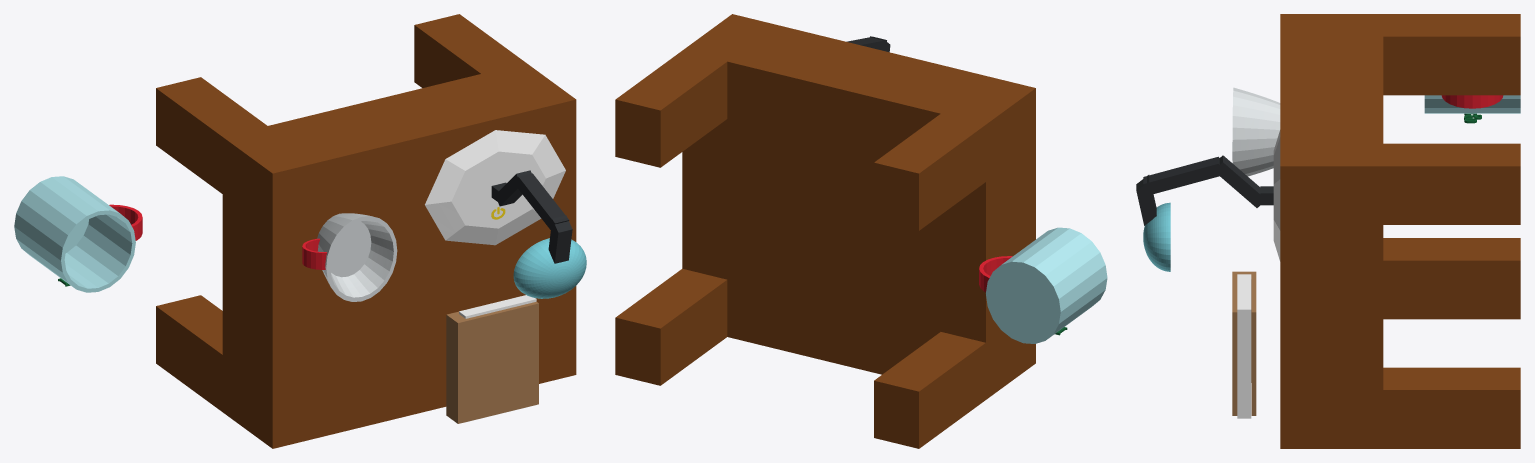
The model's file is tinker.obj.
3 views of the same model, side by side, from view 1: azimuth 30°, elevation 25°; view 2: azimuth 150°, elevation 25°; view 3: azimuth 270°, elevation 25° (orthographic). The views are drawn at different scales.
Parts seen in each view (by area): view 1: group_0_8602901, group_0_16448250, group_0_11593967, group_0_11107152, group_0_14541540, group_0_7720667, group_0_2829873, group_0_15277357; view 2: group_0_8602901, group_0_11593967, group_0_15277357; view 3: group_0_8602901, group_0_14541540, group_0_2829873, group_0_16448250, group_0_11107152, group_0_7720667, group_0_11593967, group_0_15277357.
Part boxes in pixels (x1=…): group_0_8602901: x1=156, y1=14, x2=576, y2=448; group_0_16448250: x1=425, y1=130, x2=565, y2=422; group_0_11593967: x1=14, y1=176, x2=135, y2=292; group_0_11107152: x1=446, y1=301, x2=538, y2=423; group_0_14541540: x1=317, y1=213, x2=397, y2=301; group_0_7720667: x1=513, y1=238, x2=586, y2=298; group_0_2829873: x1=491, y1=170, x2=572, y2=263; group_0_15277357: x1=109, y1=204, x2=326, y2=269; group_0_8602901: x1=615, y1=14, x2=1035, y2=448; group_0_11593967: x1=986, y1=227, x2=1107, y2=343; group_0_15277357: x1=979, y1=256, x2=1012, y2=292; group_0_8602901: x1=1280, y1=14, x2=1520, y2=448; group_0_14541540: x1=1232, y1=87, x2=1280, y2=176; group_0_2829873: x1=1136, y1=155, x2=1273, y2=225; group_0_16448250: x1=1237, y1=130, x2=1280, y2=418; group_0_11107152: x1=1232, y1=271, x2=1256, y2=415; group_0_7720667: x1=1143, y1=202, x2=1170, y2=271; group_0_11593967: x1=1424, y1=95, x2=1520, y2=113; group_0_15277357: x1=1441, y1=95, x2=1503, y2=108.
Size of the model in its own units: 22 by 13 by 16.
